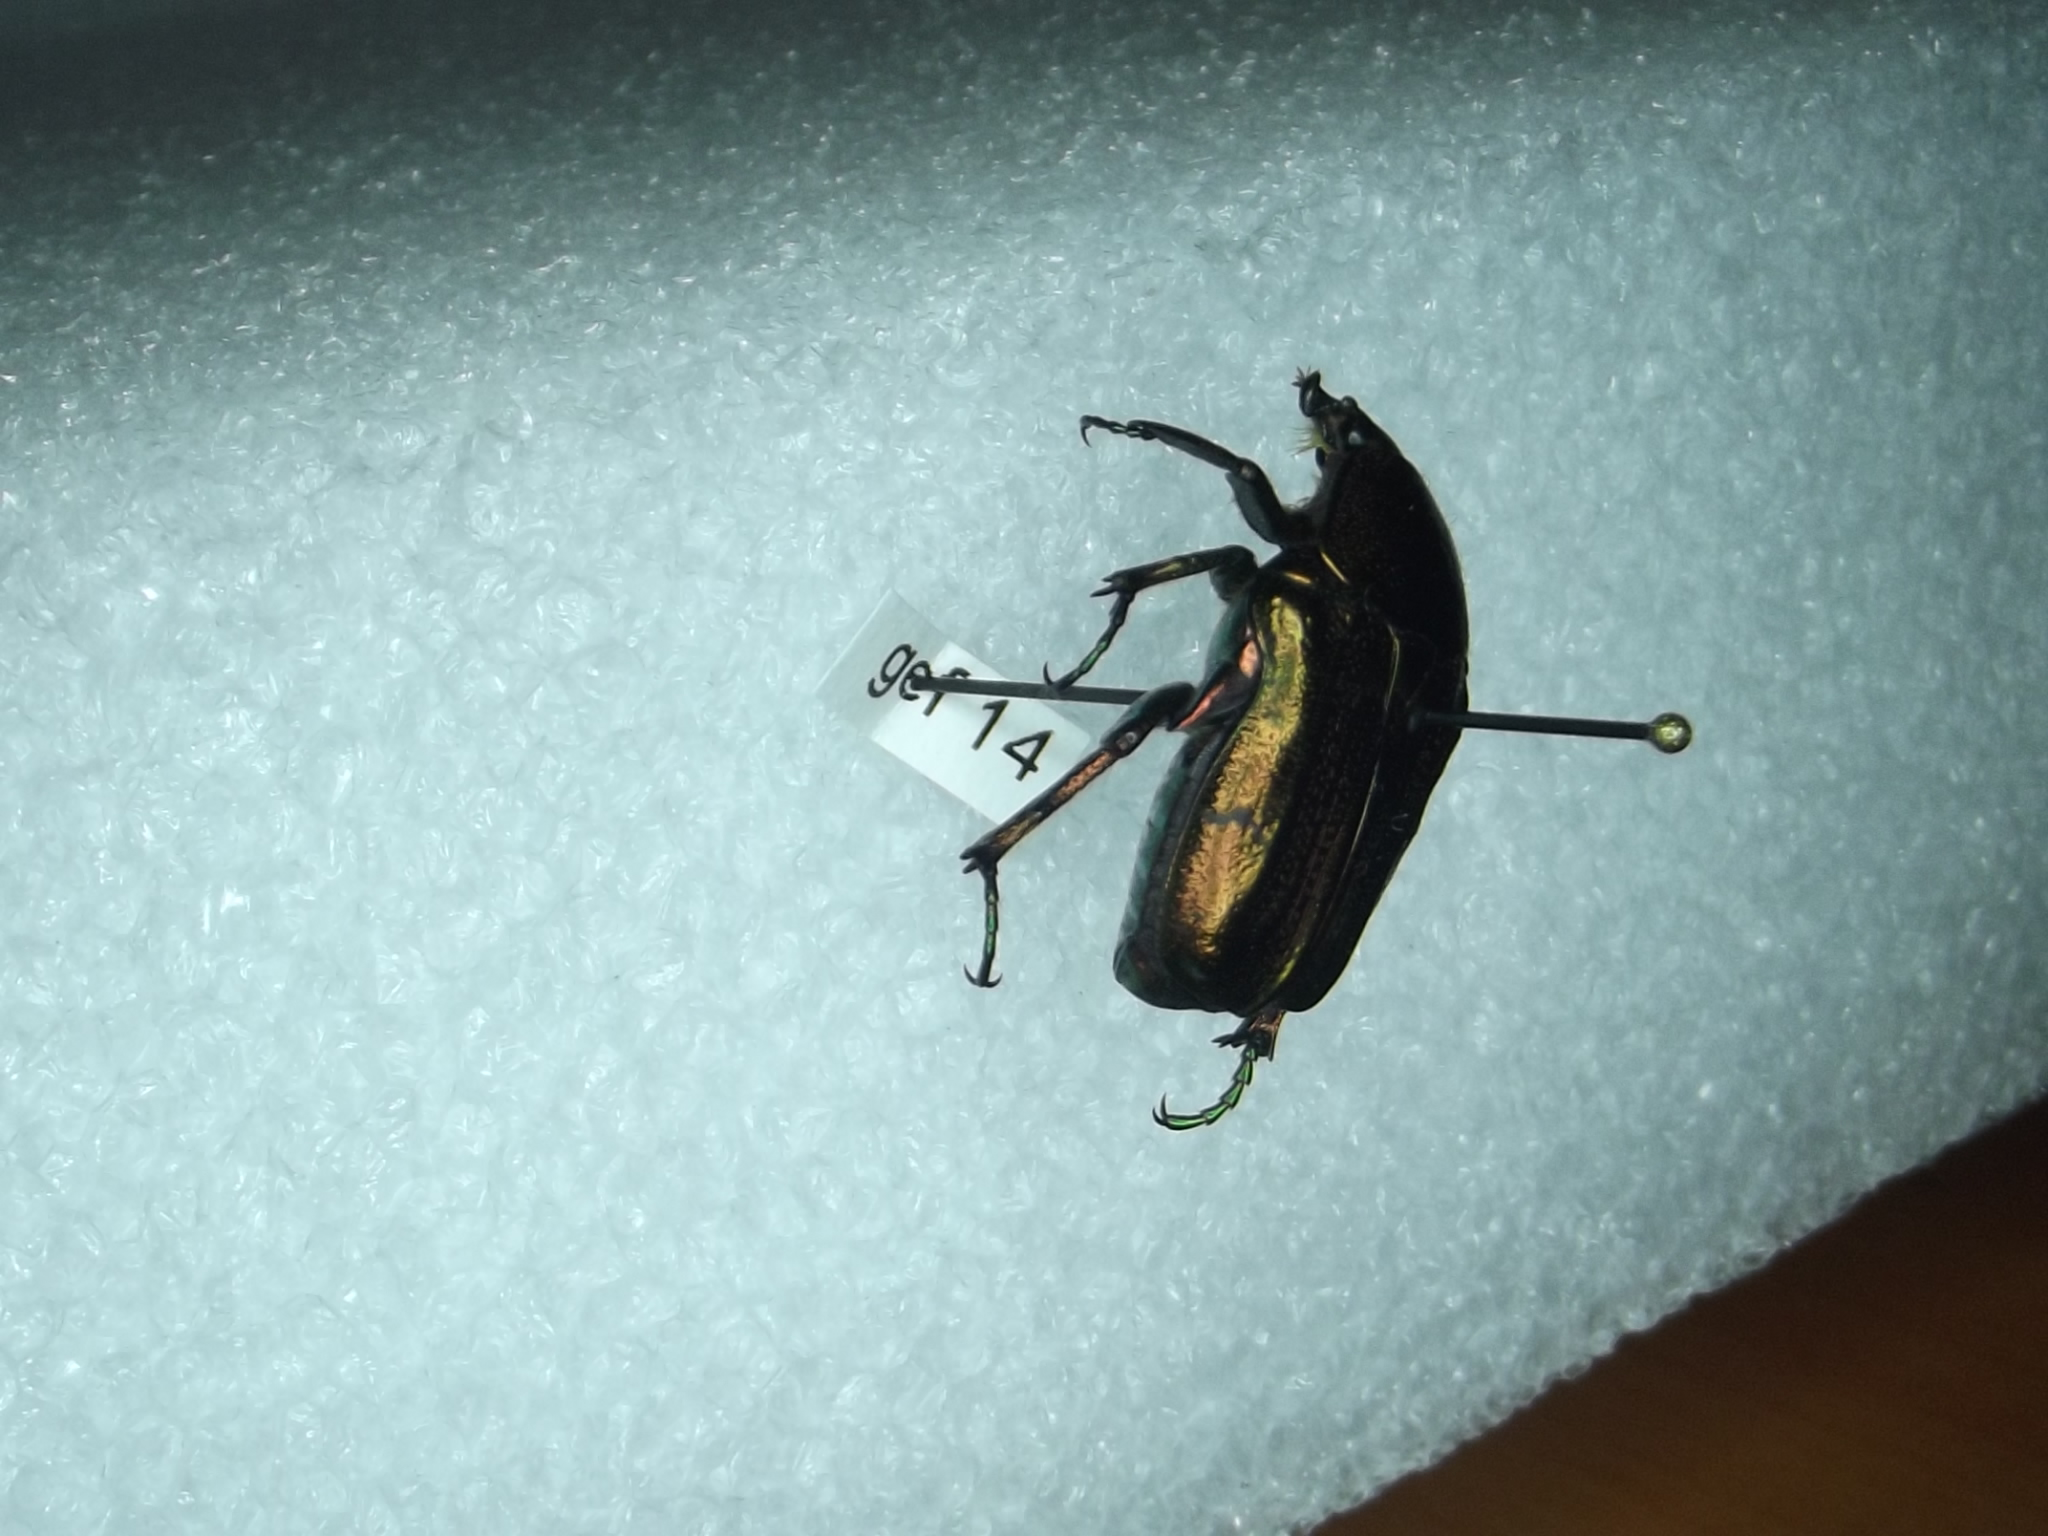Cetonia_aurata: (968, 323, 1492, 1149)
